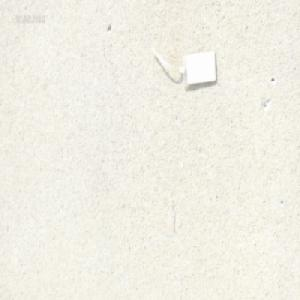LuggageTag: (147, 46, 218, 88)
